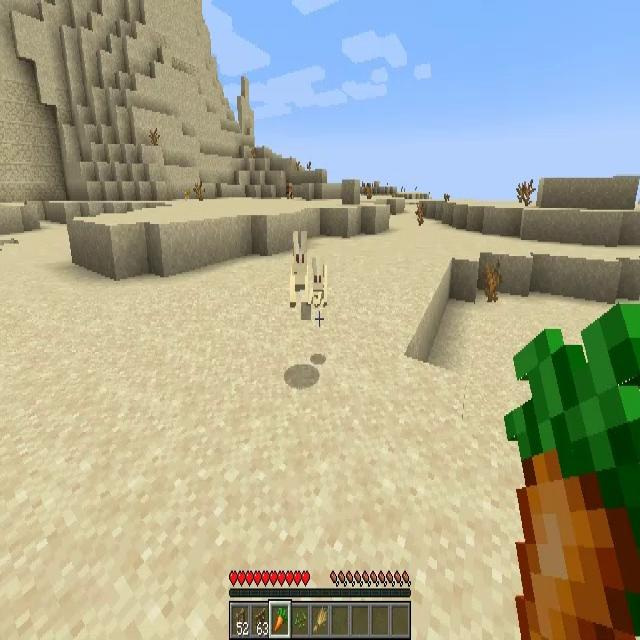rabbit: (290, 226, 311, 313), (308, 254, 327, 304)
